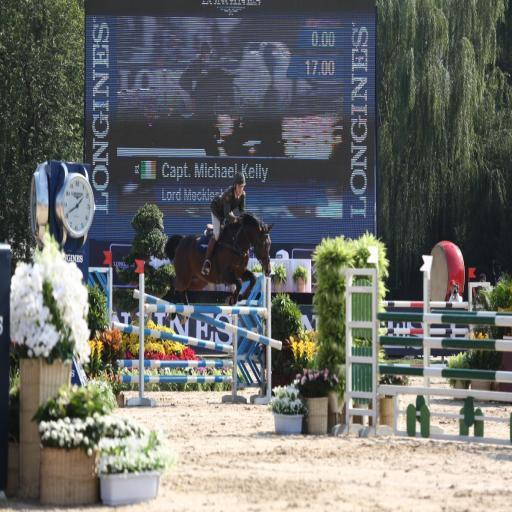horse: (162, 208, 276, 320)
